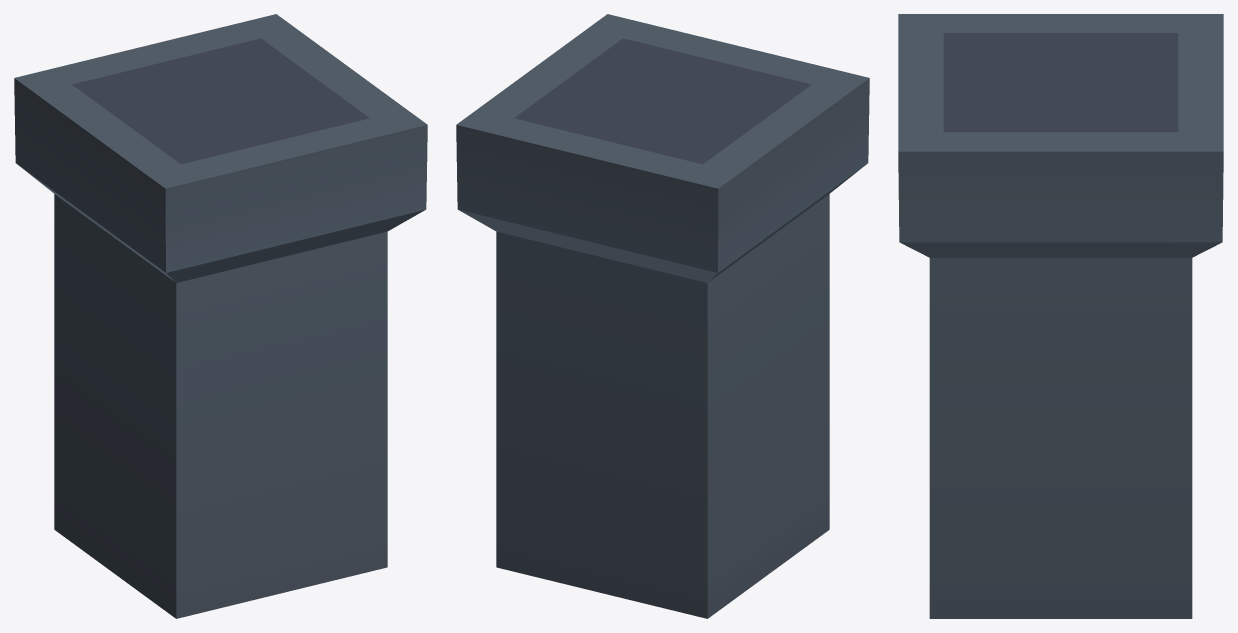
The model's file is Chimney_2_A_1.fbx.
3 renders of one model, left to right at view 1: azimuth 30°, elevation 25°; view 2: azimuth 150°, elevation 25°; view 3: azimuth 270°, elevation 25°, orthographic. The views are drawn at different scales.
Parts seen in each view (by area): view 1: Chimney_2_A_1; view 2: Chimney_2_A_1; view 3: Chimney_2_A_1.
Part boxes in pixels (x1=…): Chimney_2_A_1: x1=14, y1=14, x2=427, y2=618; Chimney_2_A_1: x1=456, y1=14, x2=869, y2=618; Chimney_2_A_1: x1=898, y1=14, x2=1223, y2=618.
Bounding box in the file's own units: 63.29 × 103 × 63.29.
